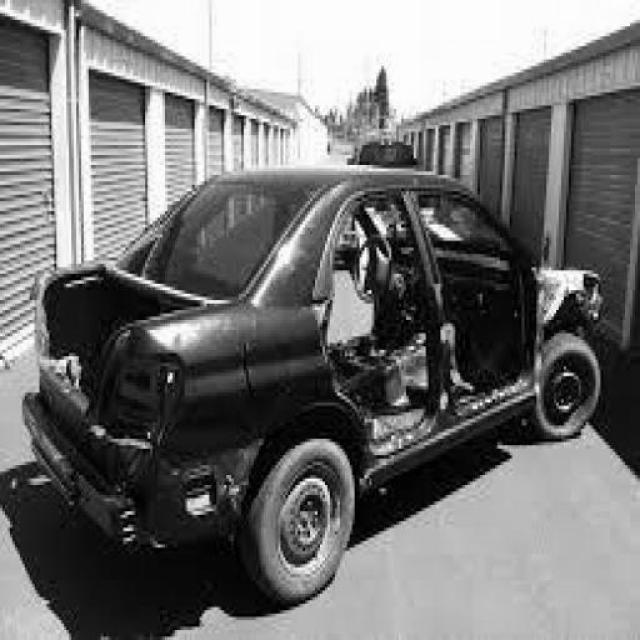crush: (31, 275, 260, 541), (534, 270, 606, 361)
missing: (311, 187, 544, 460)
